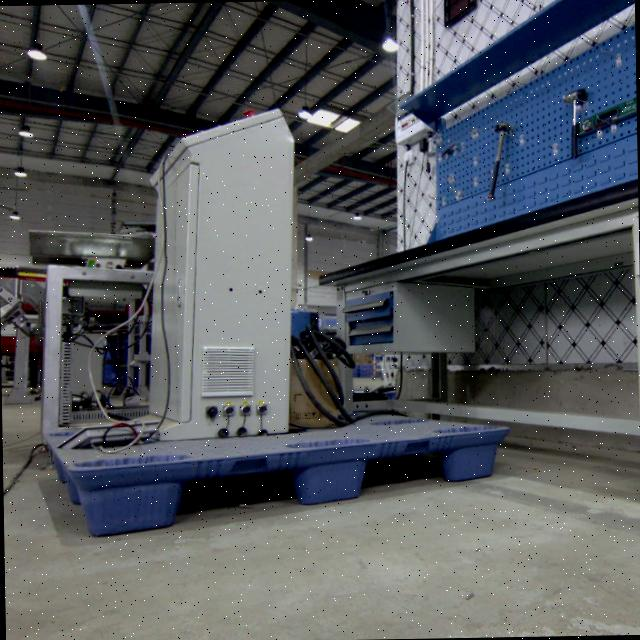block: (69, 461, 201, 538), (296, 440, 375, 503), (436, 427, 507, 485)
front: (70, 427, 512, 533)
hole pallet: (185, 469, 303, 525), (359, 448, 449, 495)
